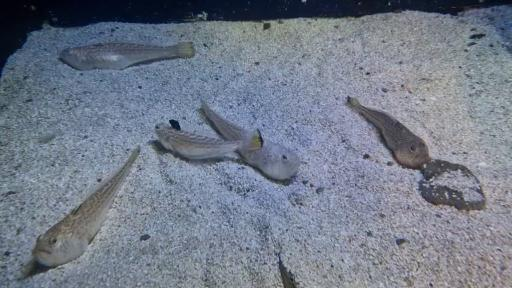Fish: (31, 146, 140, 267), (347, 97, 431, 169), (155, 120, 263, 159), (60, 42, 195, 70), (239, 139, 301, 180), (278, 252, 297, 287)
